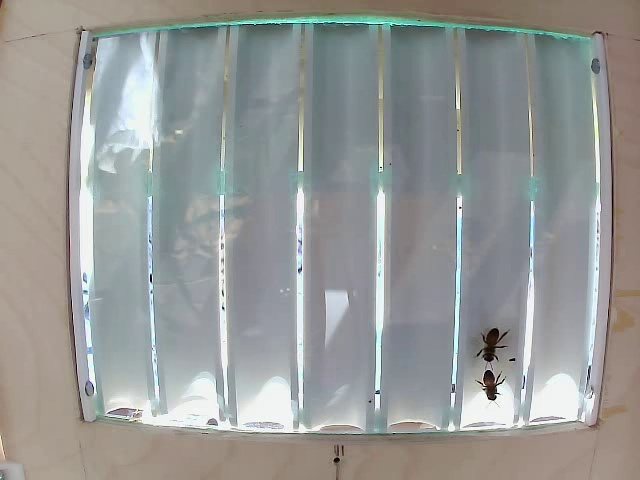bee: (470, 316, 530, 366), (471, 369, 514, 403)
